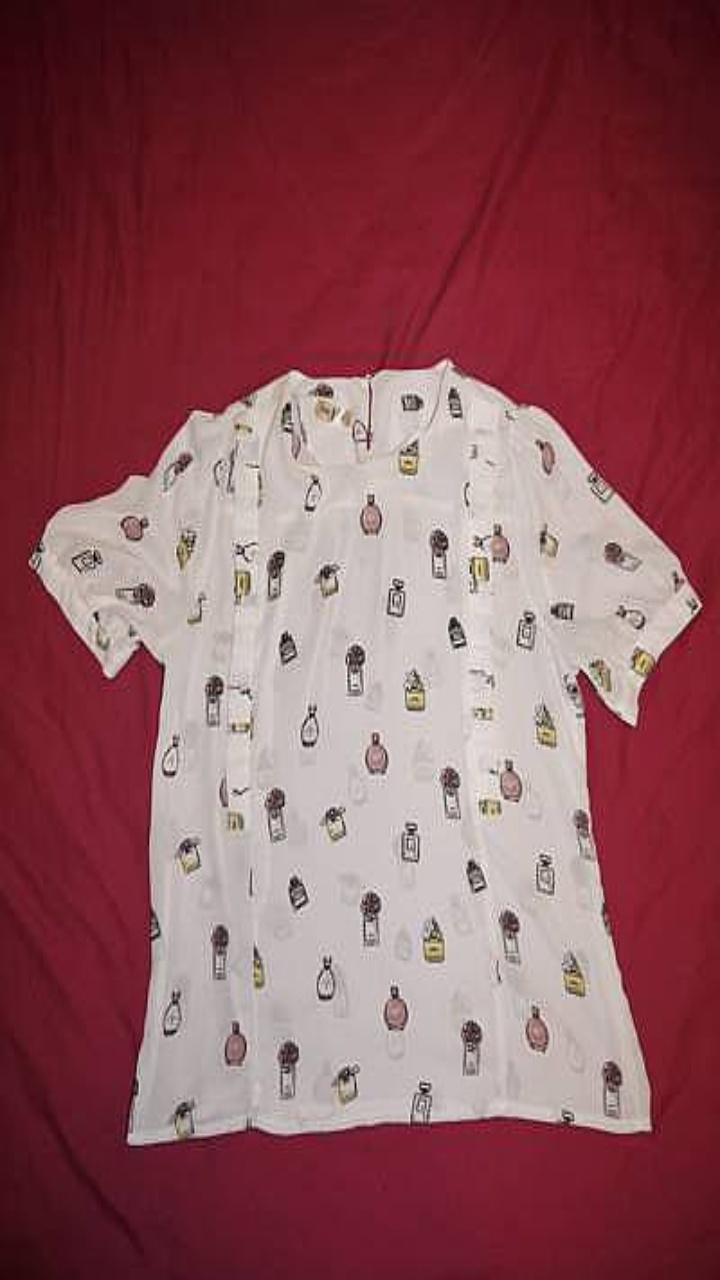T-Shirt: (30, 358, 700, 1143)
